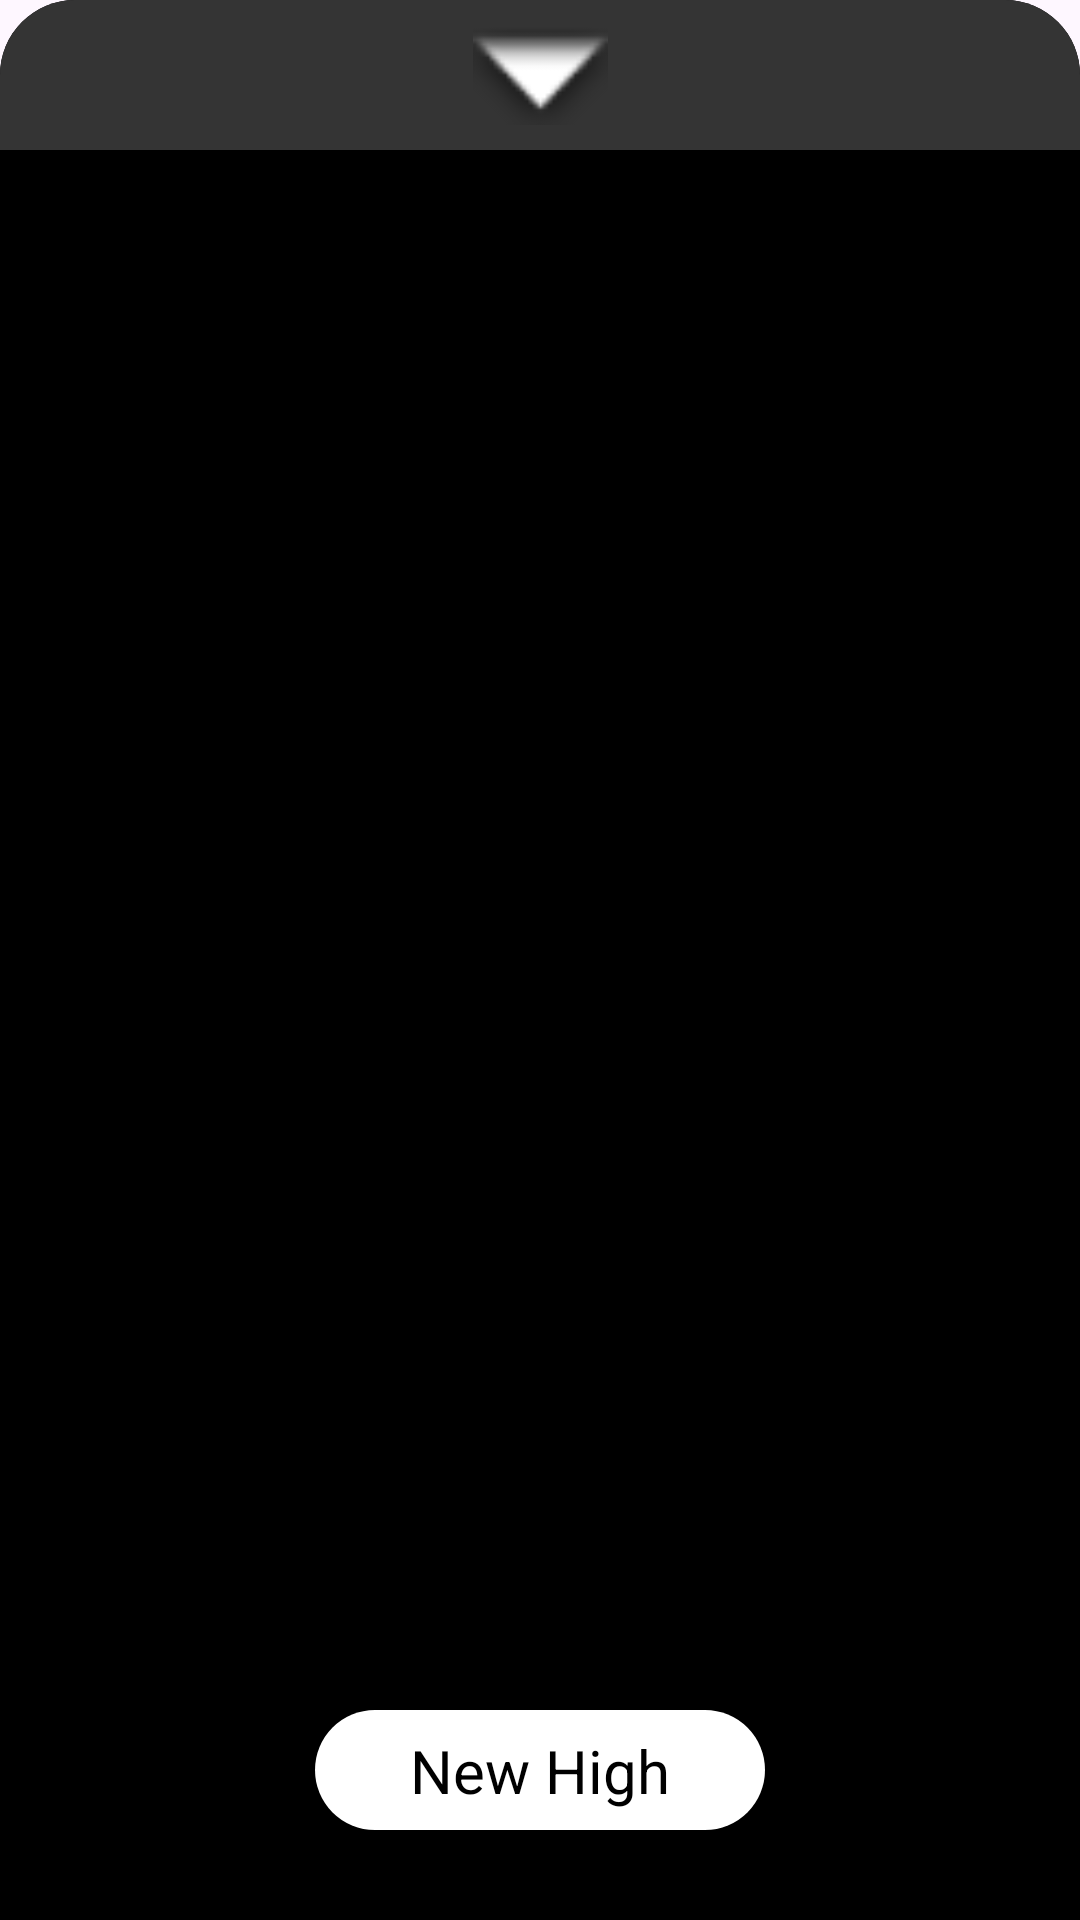

Point at icon controls on the screen. Image size 1080px×1920px, points as [x,y].
arrow down float: [541,73]
